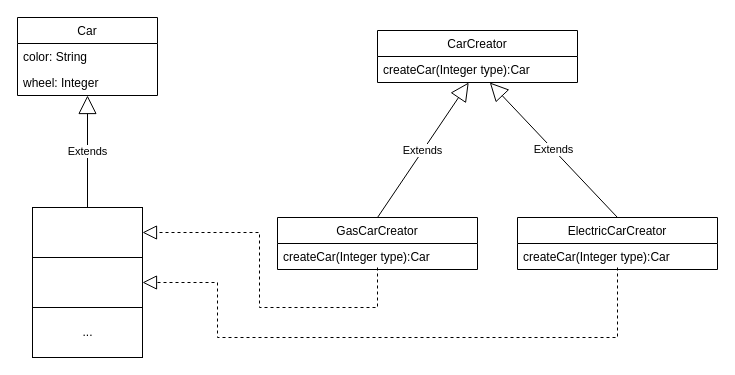
Some shapes in this 735 by 375 pixel diagram are drawn without their labels. The centre of each missing label's shape, as x and y in pixels:
"ElectricCar" goes at pixel 87 282.
"GasCar" goes at pixel 87 232.
